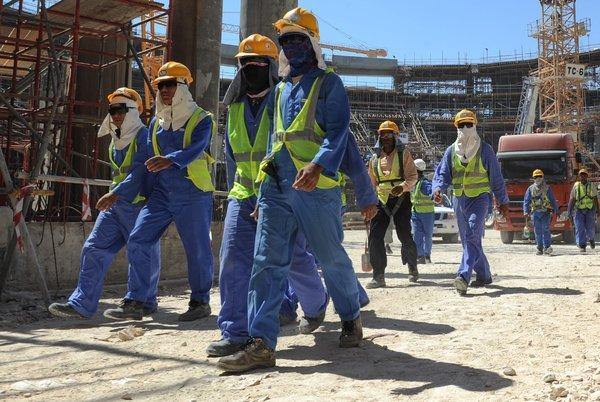helmet: (271, 6, 327, 40), (235, 35, 282, 62), (106, 88, 152, 114), (153, 64, 195, 88), (455, 112, 478, 129), (379, 121, 400, 135), (411, 156, 428, 173), (534, 170, 547, 178), (580, 169, 589, 177)
